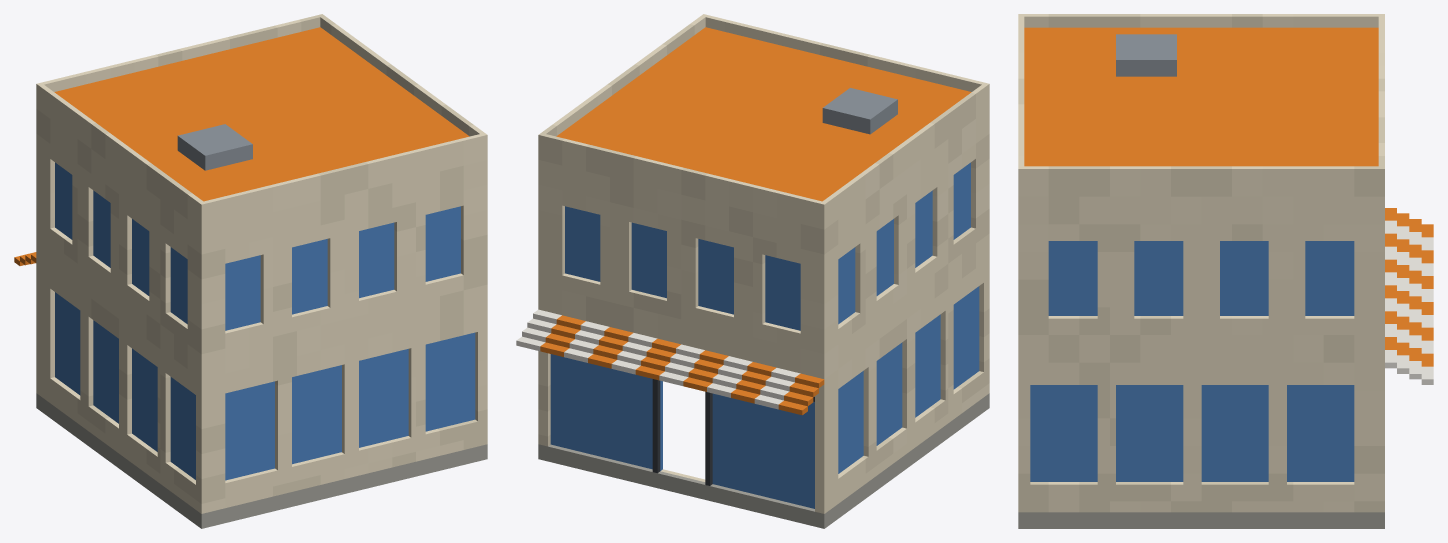
Rendered from shop_a.glb.
The picture shows the model from 3 angles, left to right: view 1: azimuth 30°, elevation 25°; view 2: azimuth 150°, elevation 25°; view 3: azimuth 270°, elevation 25°; orthographic projection. The views are drawn at different scales.
Visible parts, largest first — view 1: shop; view 2: shop; view 3: shop.
Part boxes in pixels (left/top/right/bottom): shop: left=14, top=14, right=487, bottom=528; shop: left=516, top=14, right=989, bottom=528; shop: left=1018, top=14, right=1433, bottom=528.
Size of the model in its own units: 6 by 6.6 by 6.8.
